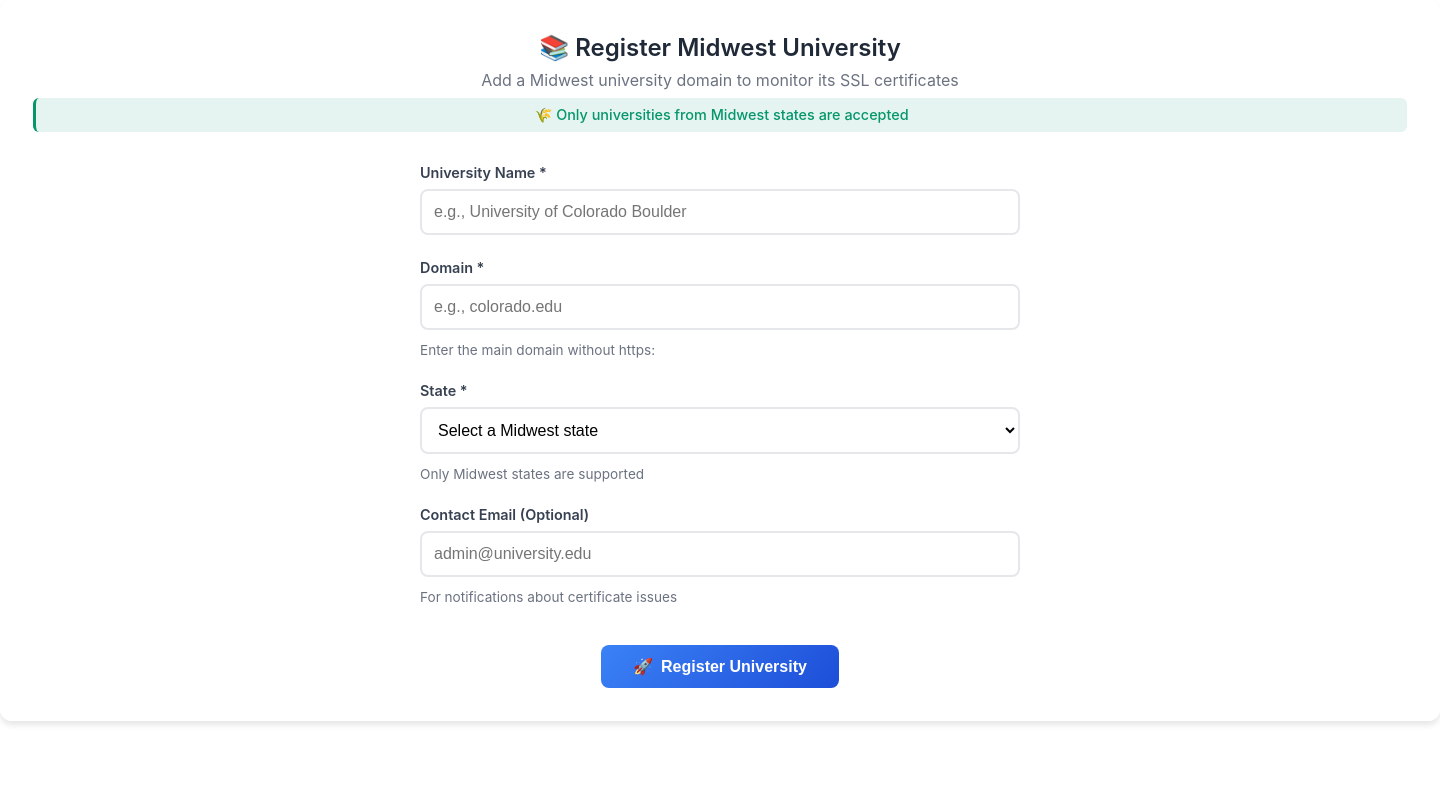
it: UniversityRegistration Component › validates domain format
In the field labelled "University Name *": (720, 212) x1=420 y1=189 x2=1020 y2=235, type "Test University"
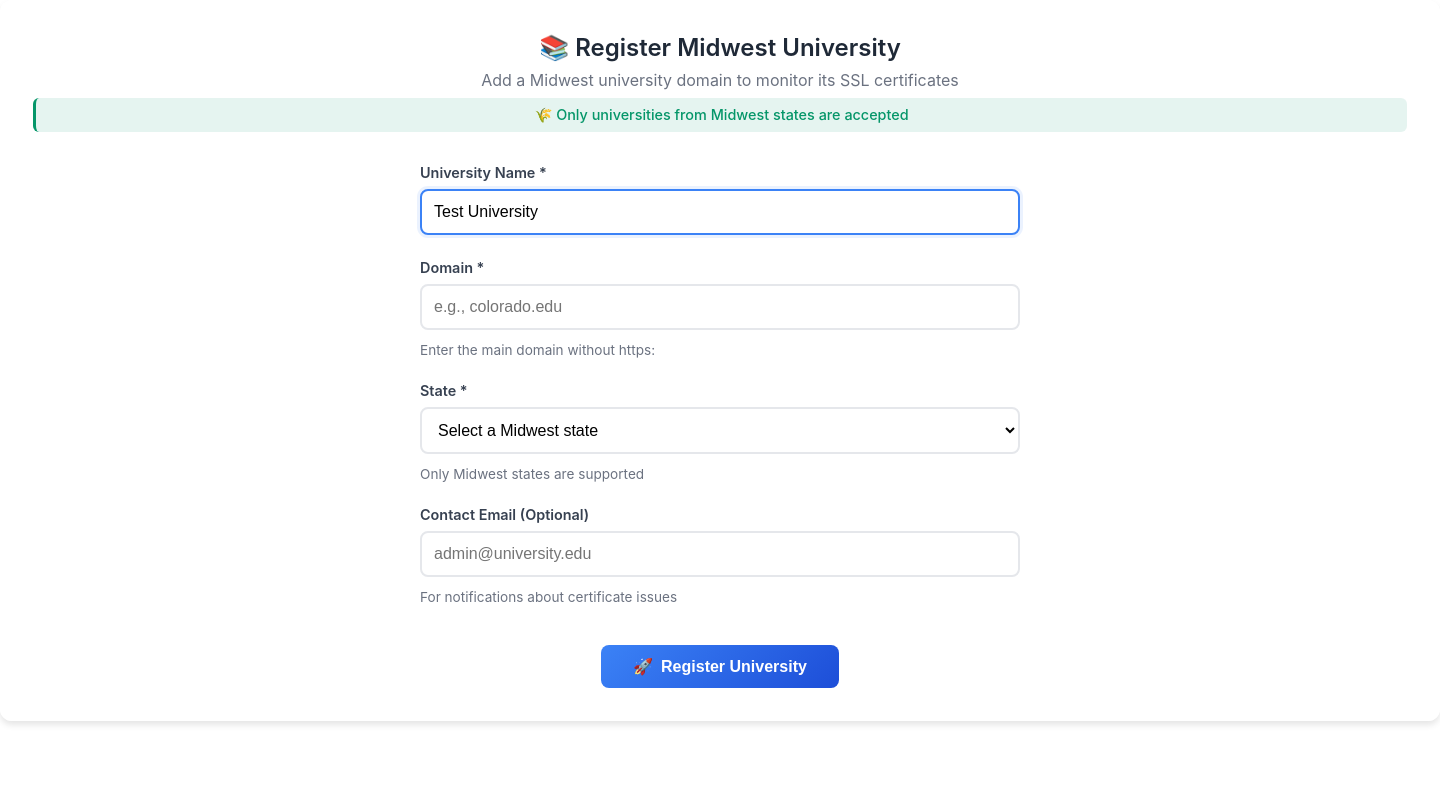
In the field labelled "Domain *": (720, 307) x1=420 y1=284 x2=1020 y2=330, type "invalid-domain"
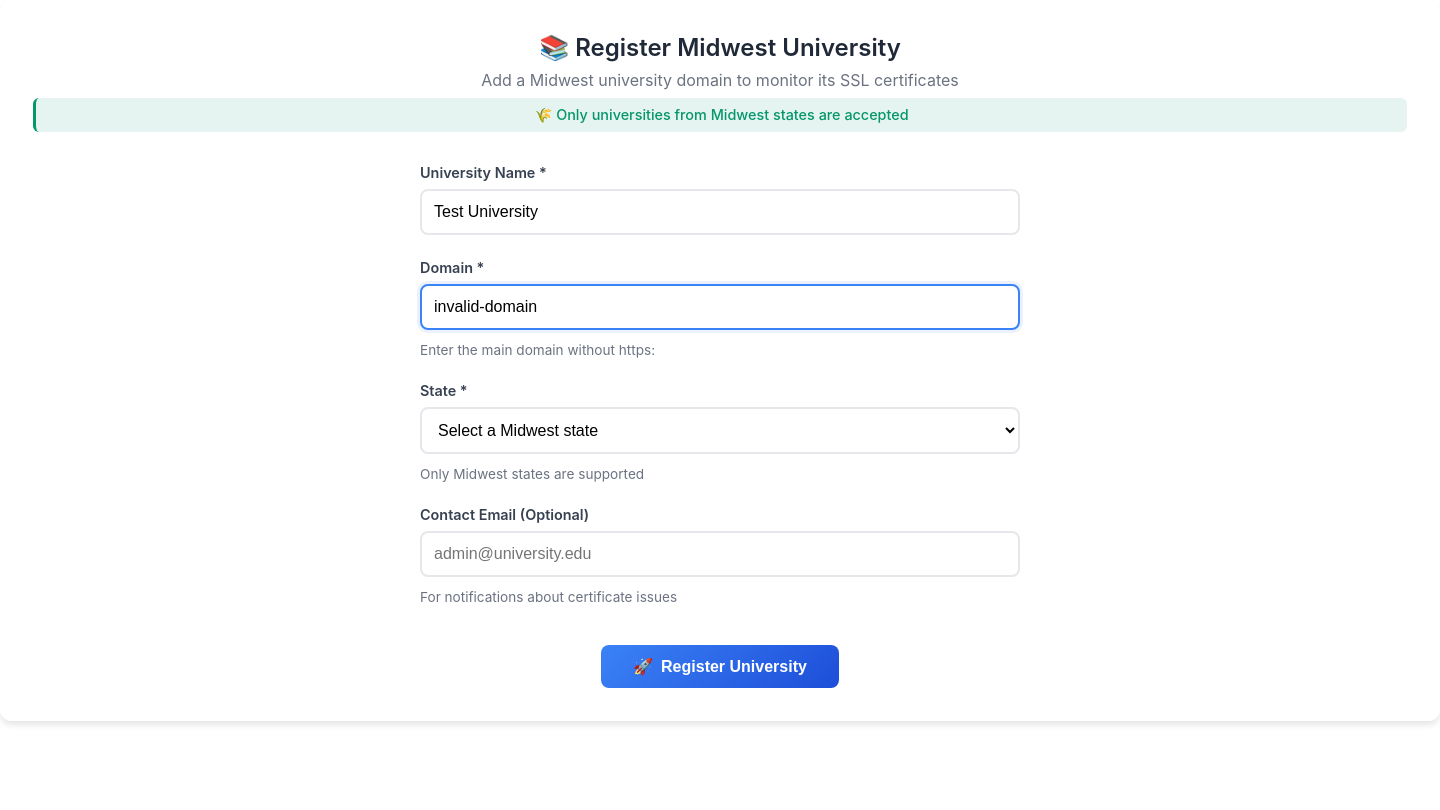
Select "Illinois" in the dropdown labelled "State *": (720, 430) x1=420 y1=407 x2=1020 y2=454
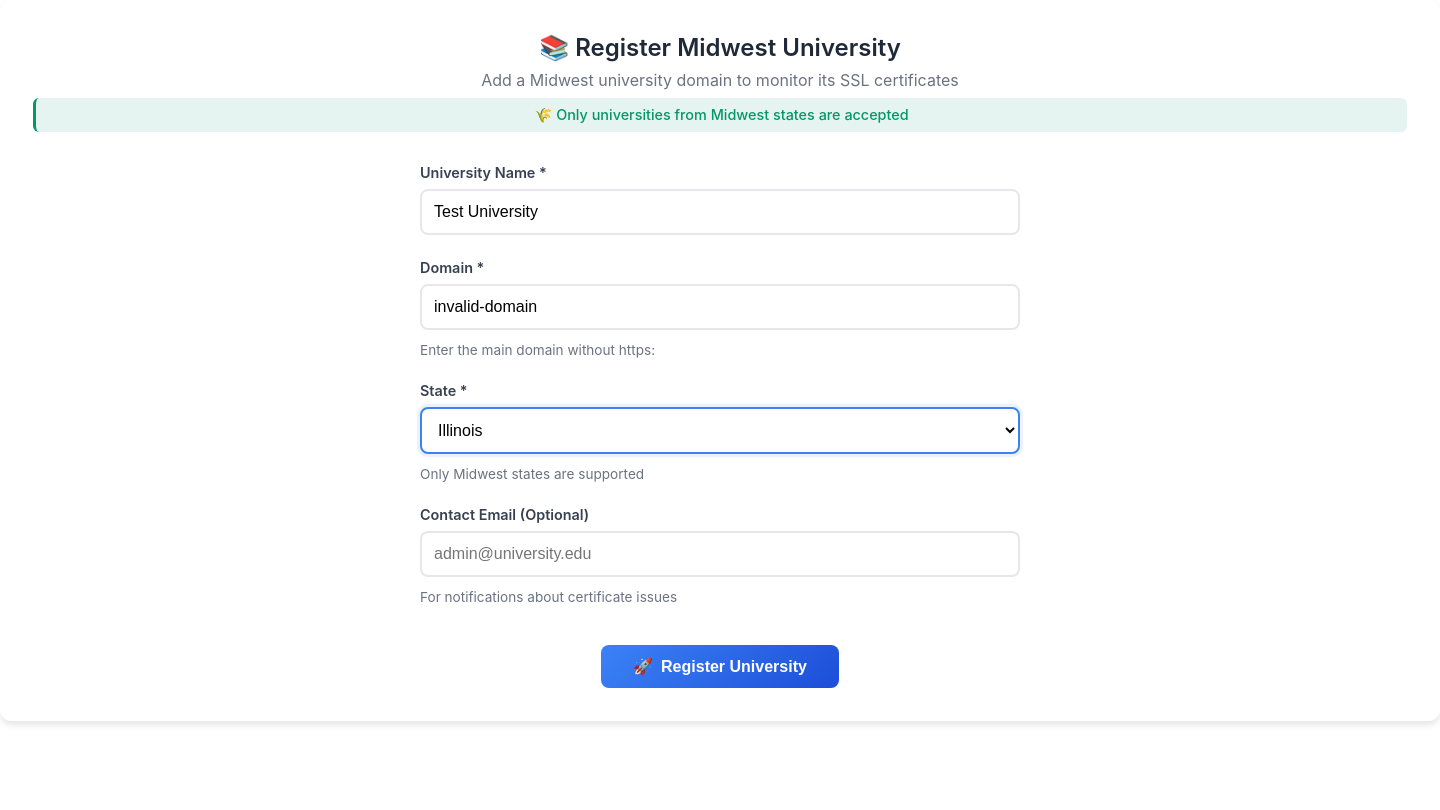
In the field labelled "Contact Email (Optional)": (720, 554) x1=420 y1=531 x2=1020 y2=577, type "admin@test.edu"
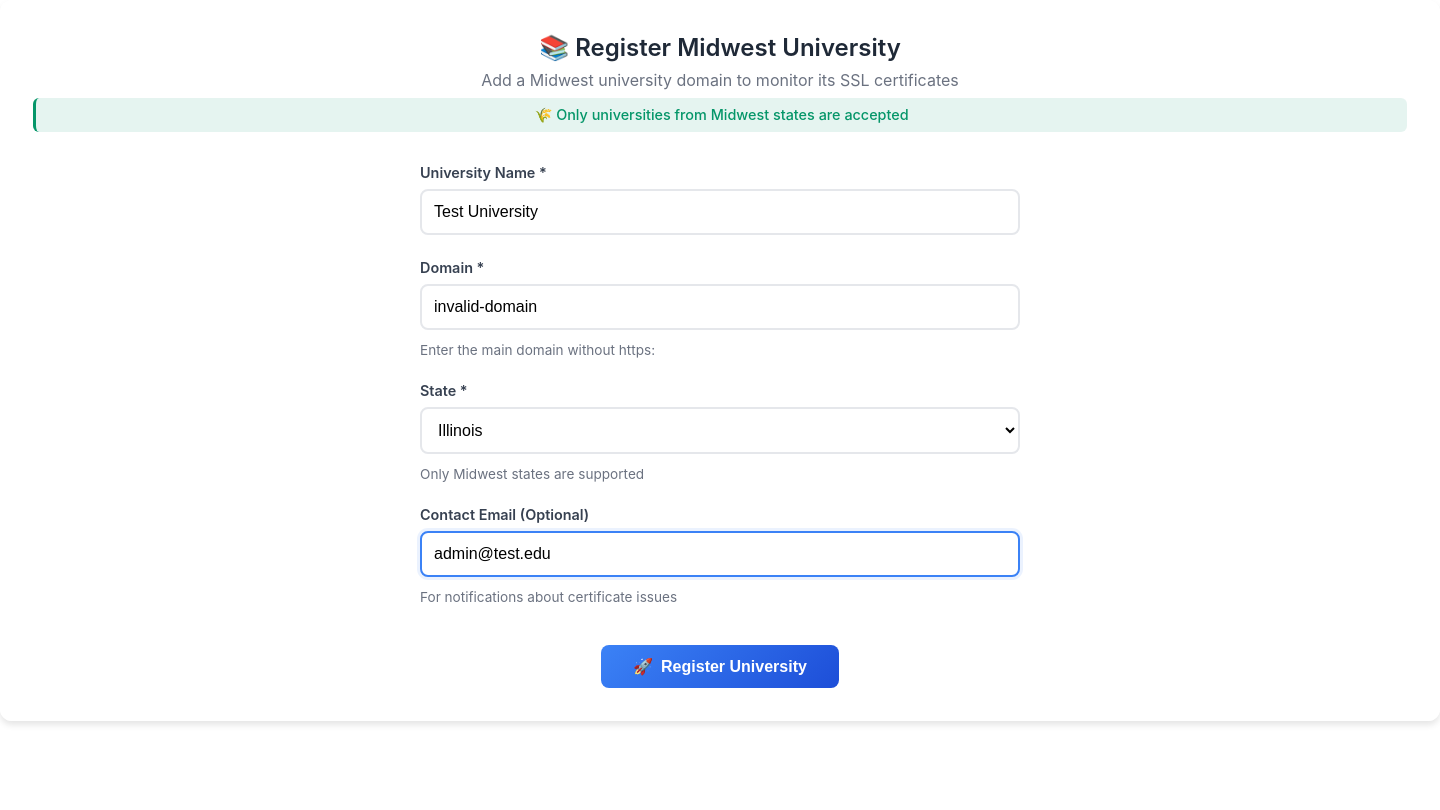
Click the button "🚀 Register University": (720, 666) x1=601 y1=645 x2=839 y2=688
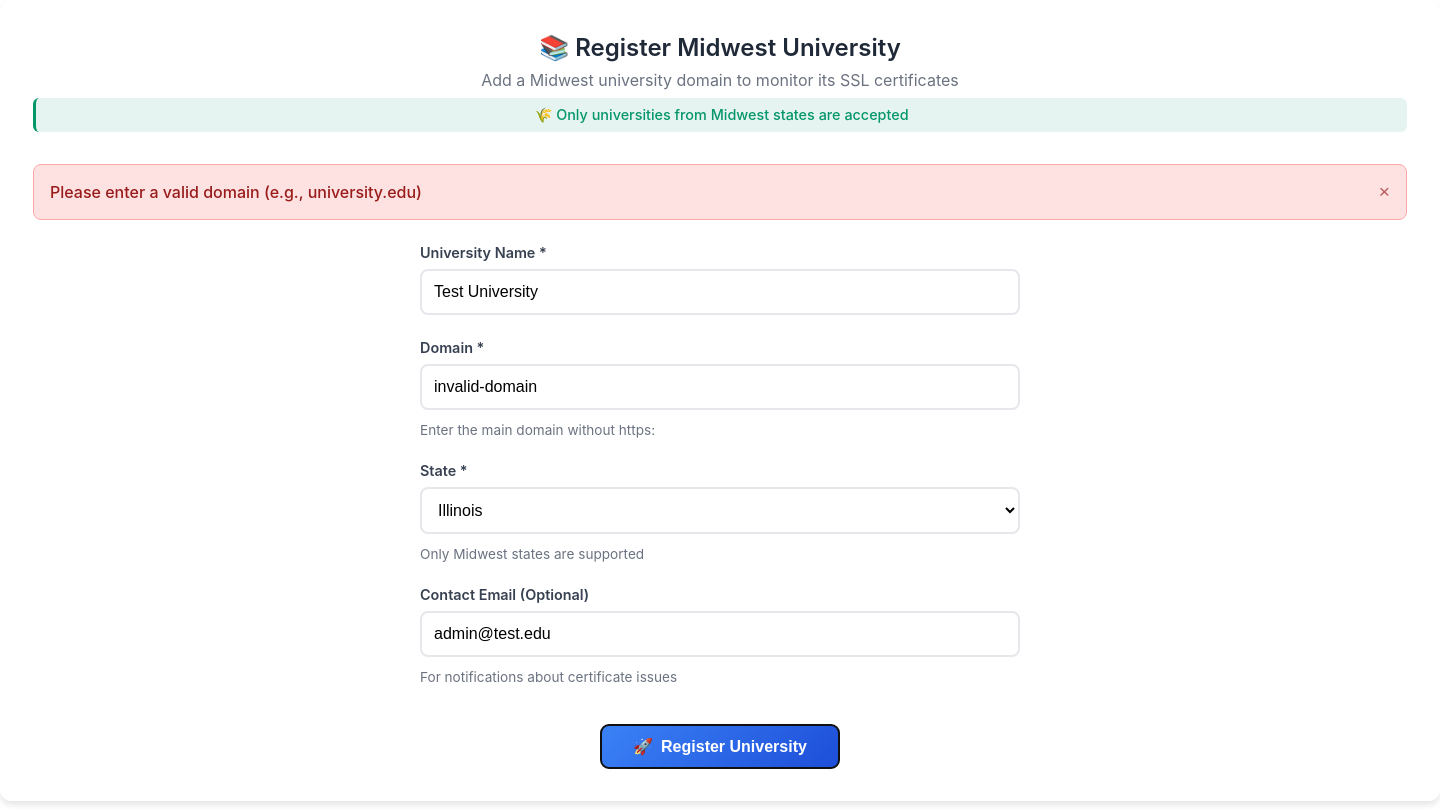
expect the text "Please enter a valid domain (e.g., university.edu)" is shown: met, box x1=50 y1=182 x2=422 y2=202
